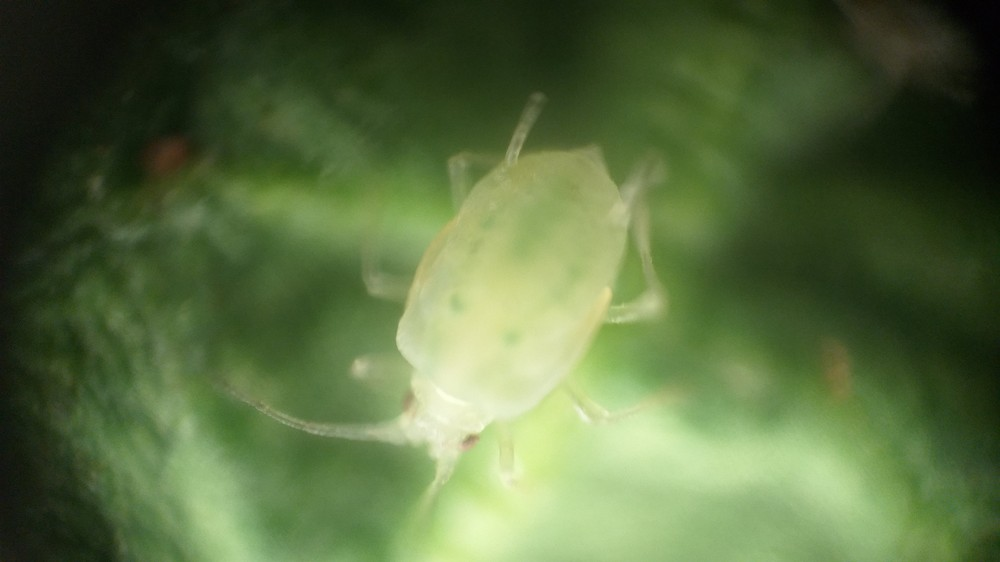Pulgon: (232, 72, 724, 557)
